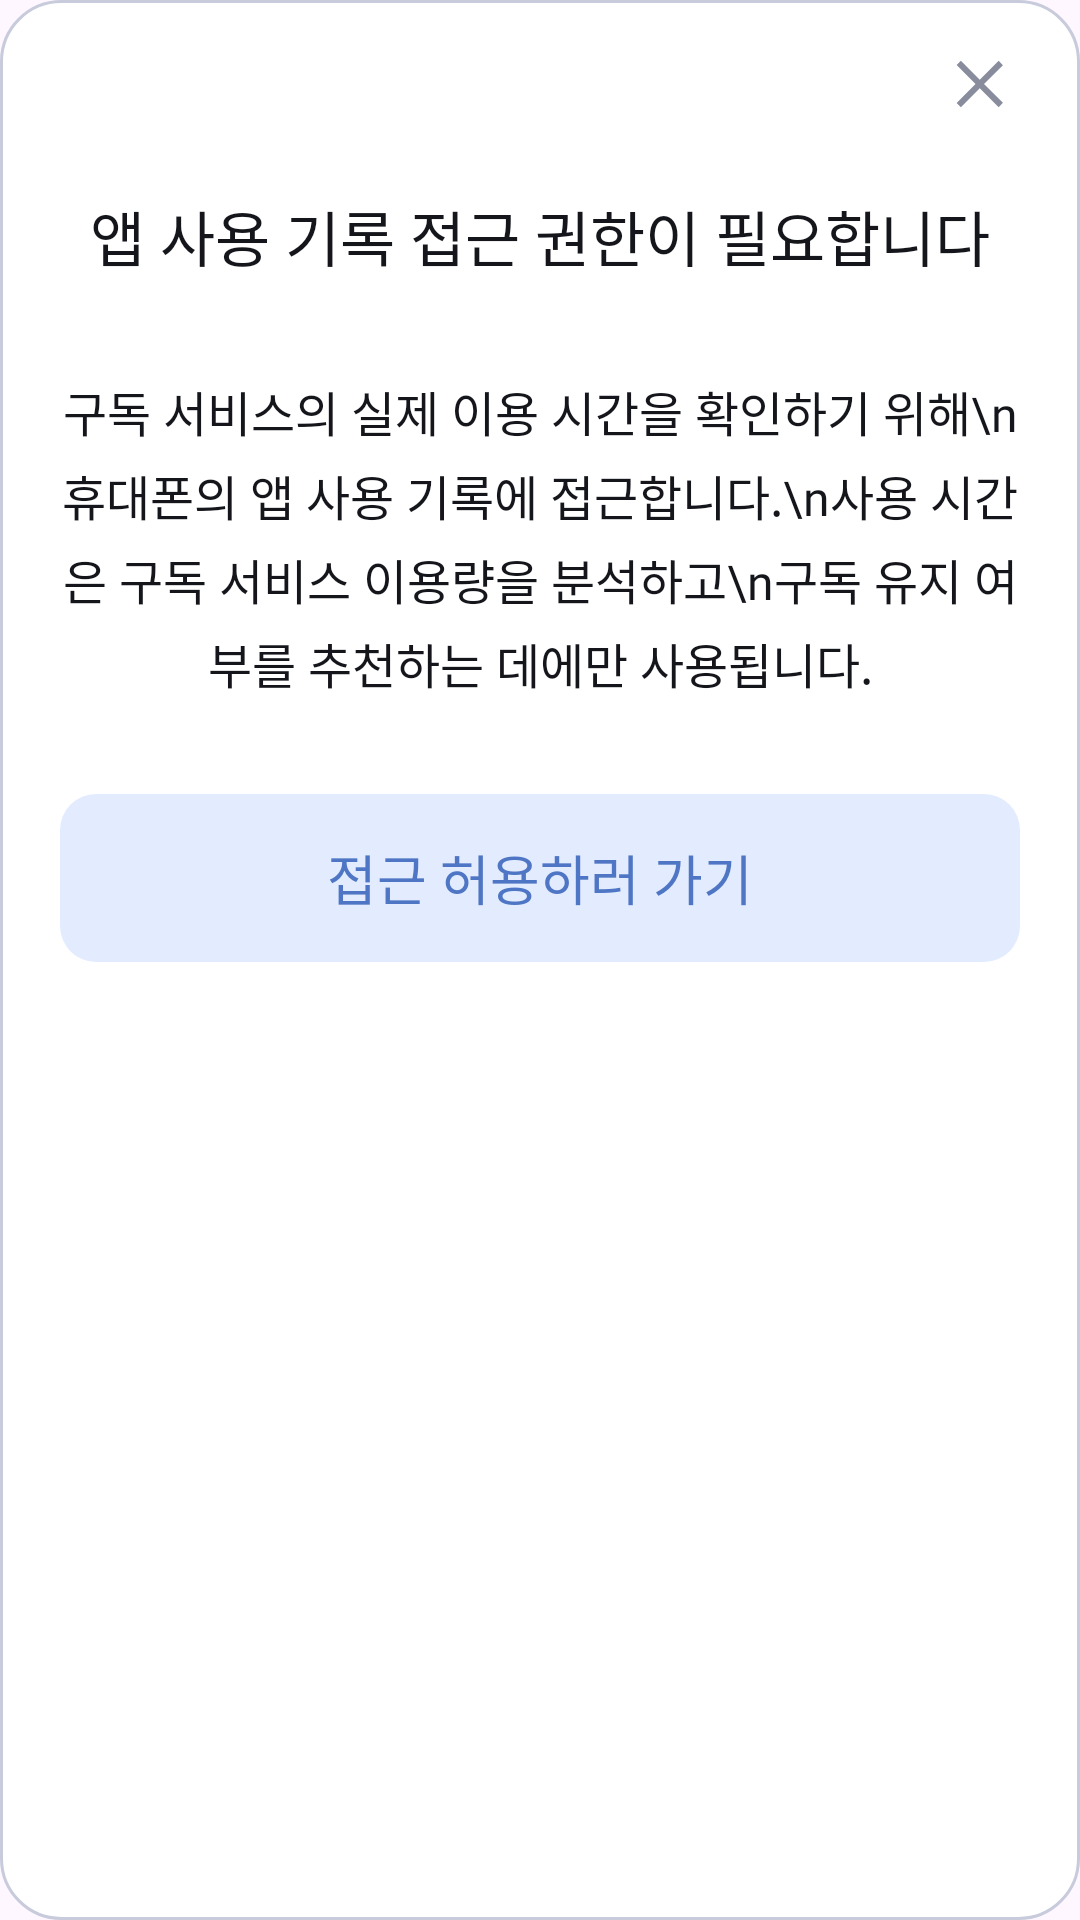

Named icons in this screenshot (1080×1920) and their centers, [x,y]:
닫기: [980,84]
